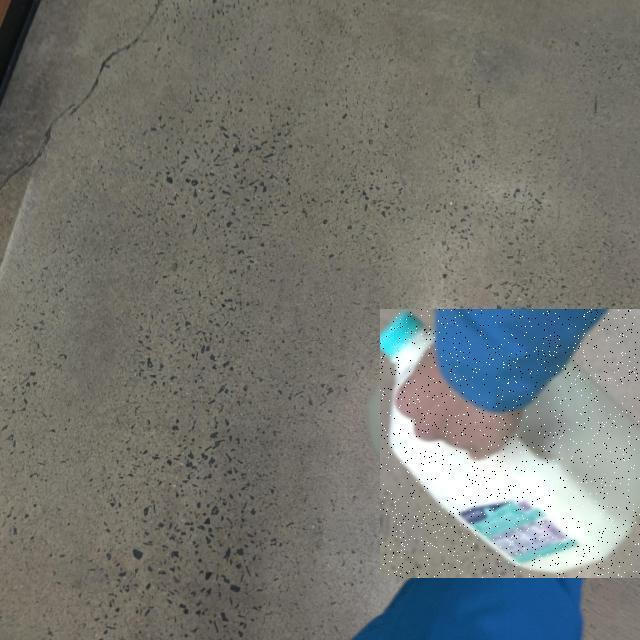Milk: (380, 309, 640, 578)
